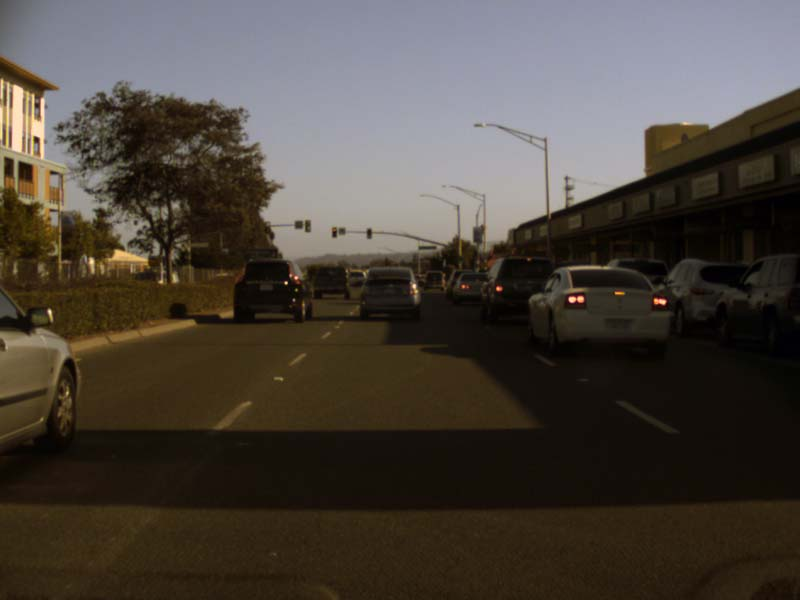Green: (366, 227, 372, 239)
Red: (331, 226, 337, 237)
